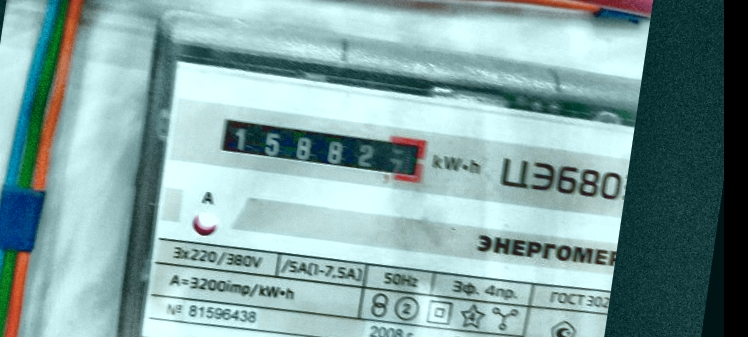1: (232, 125, 249, 152)
2: (357, 140, 376, 168)
5: (262, 129, 282, 156)
7: (387, 154, 403, 172)
8: (293, 134, 313, 160), (325, 136, 344, 163)
screen: (206, 102, 438, 194)
